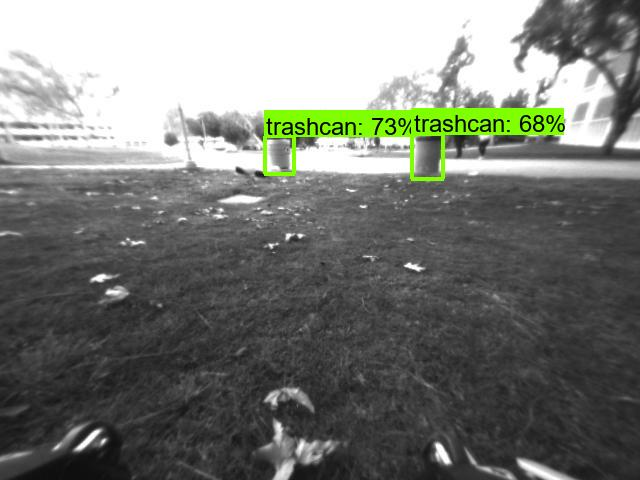trashcan: (416, 136, 441, 178), (268, 136, 295, 172)
